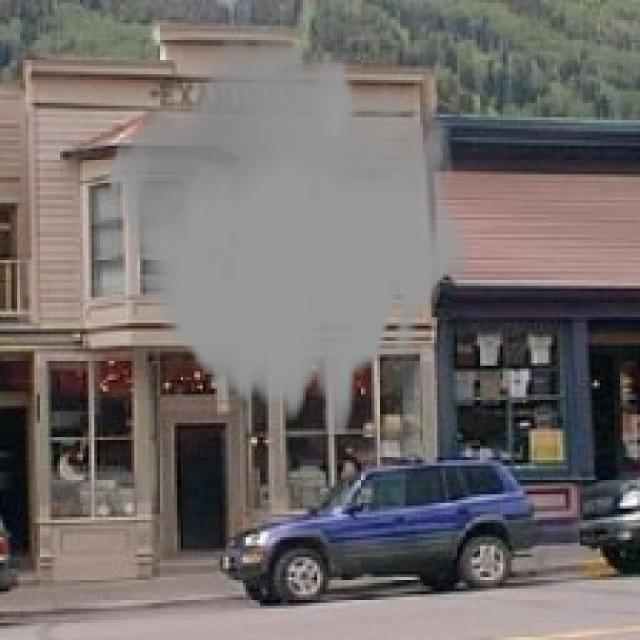Smoke: (106, 28, 472, 434)
